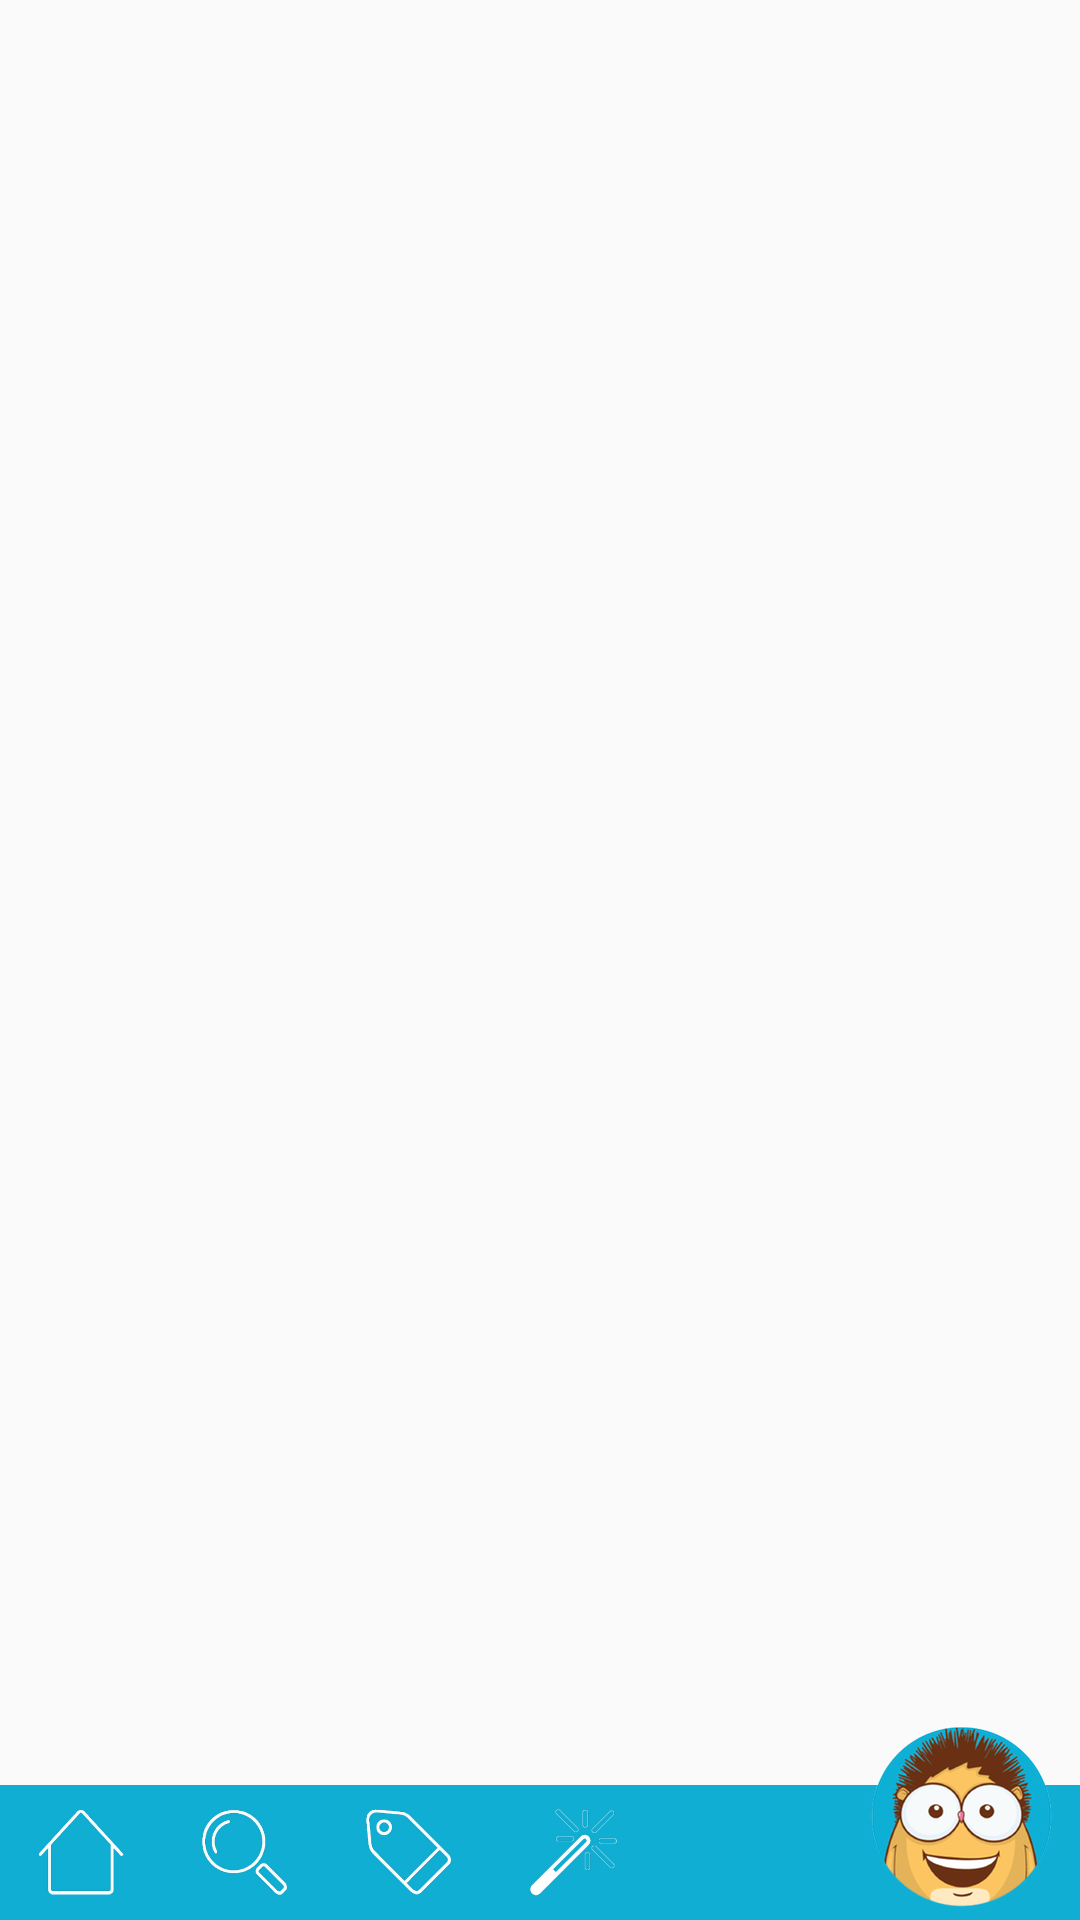

Named icons in this screenshot (1080x1920) and their bounding boxes, [x1,y1,x2,y2]:
bar etiket: [366,1809,451,1895]
bar home: [39,1810,124,1895]
bar search: [202,1810,287,1895]
bar wish: [530,1809,617,1896]
